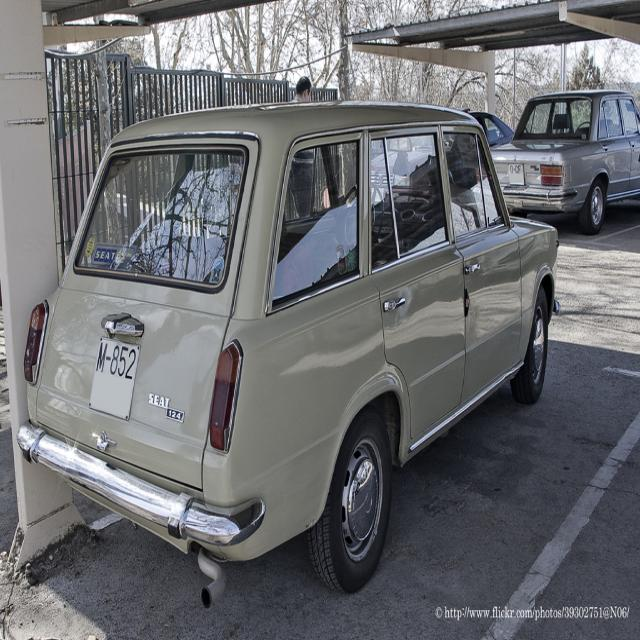other: (15, 98, 561, 596), (488, 81, 639, 232), (372, 110, 514, 188)
